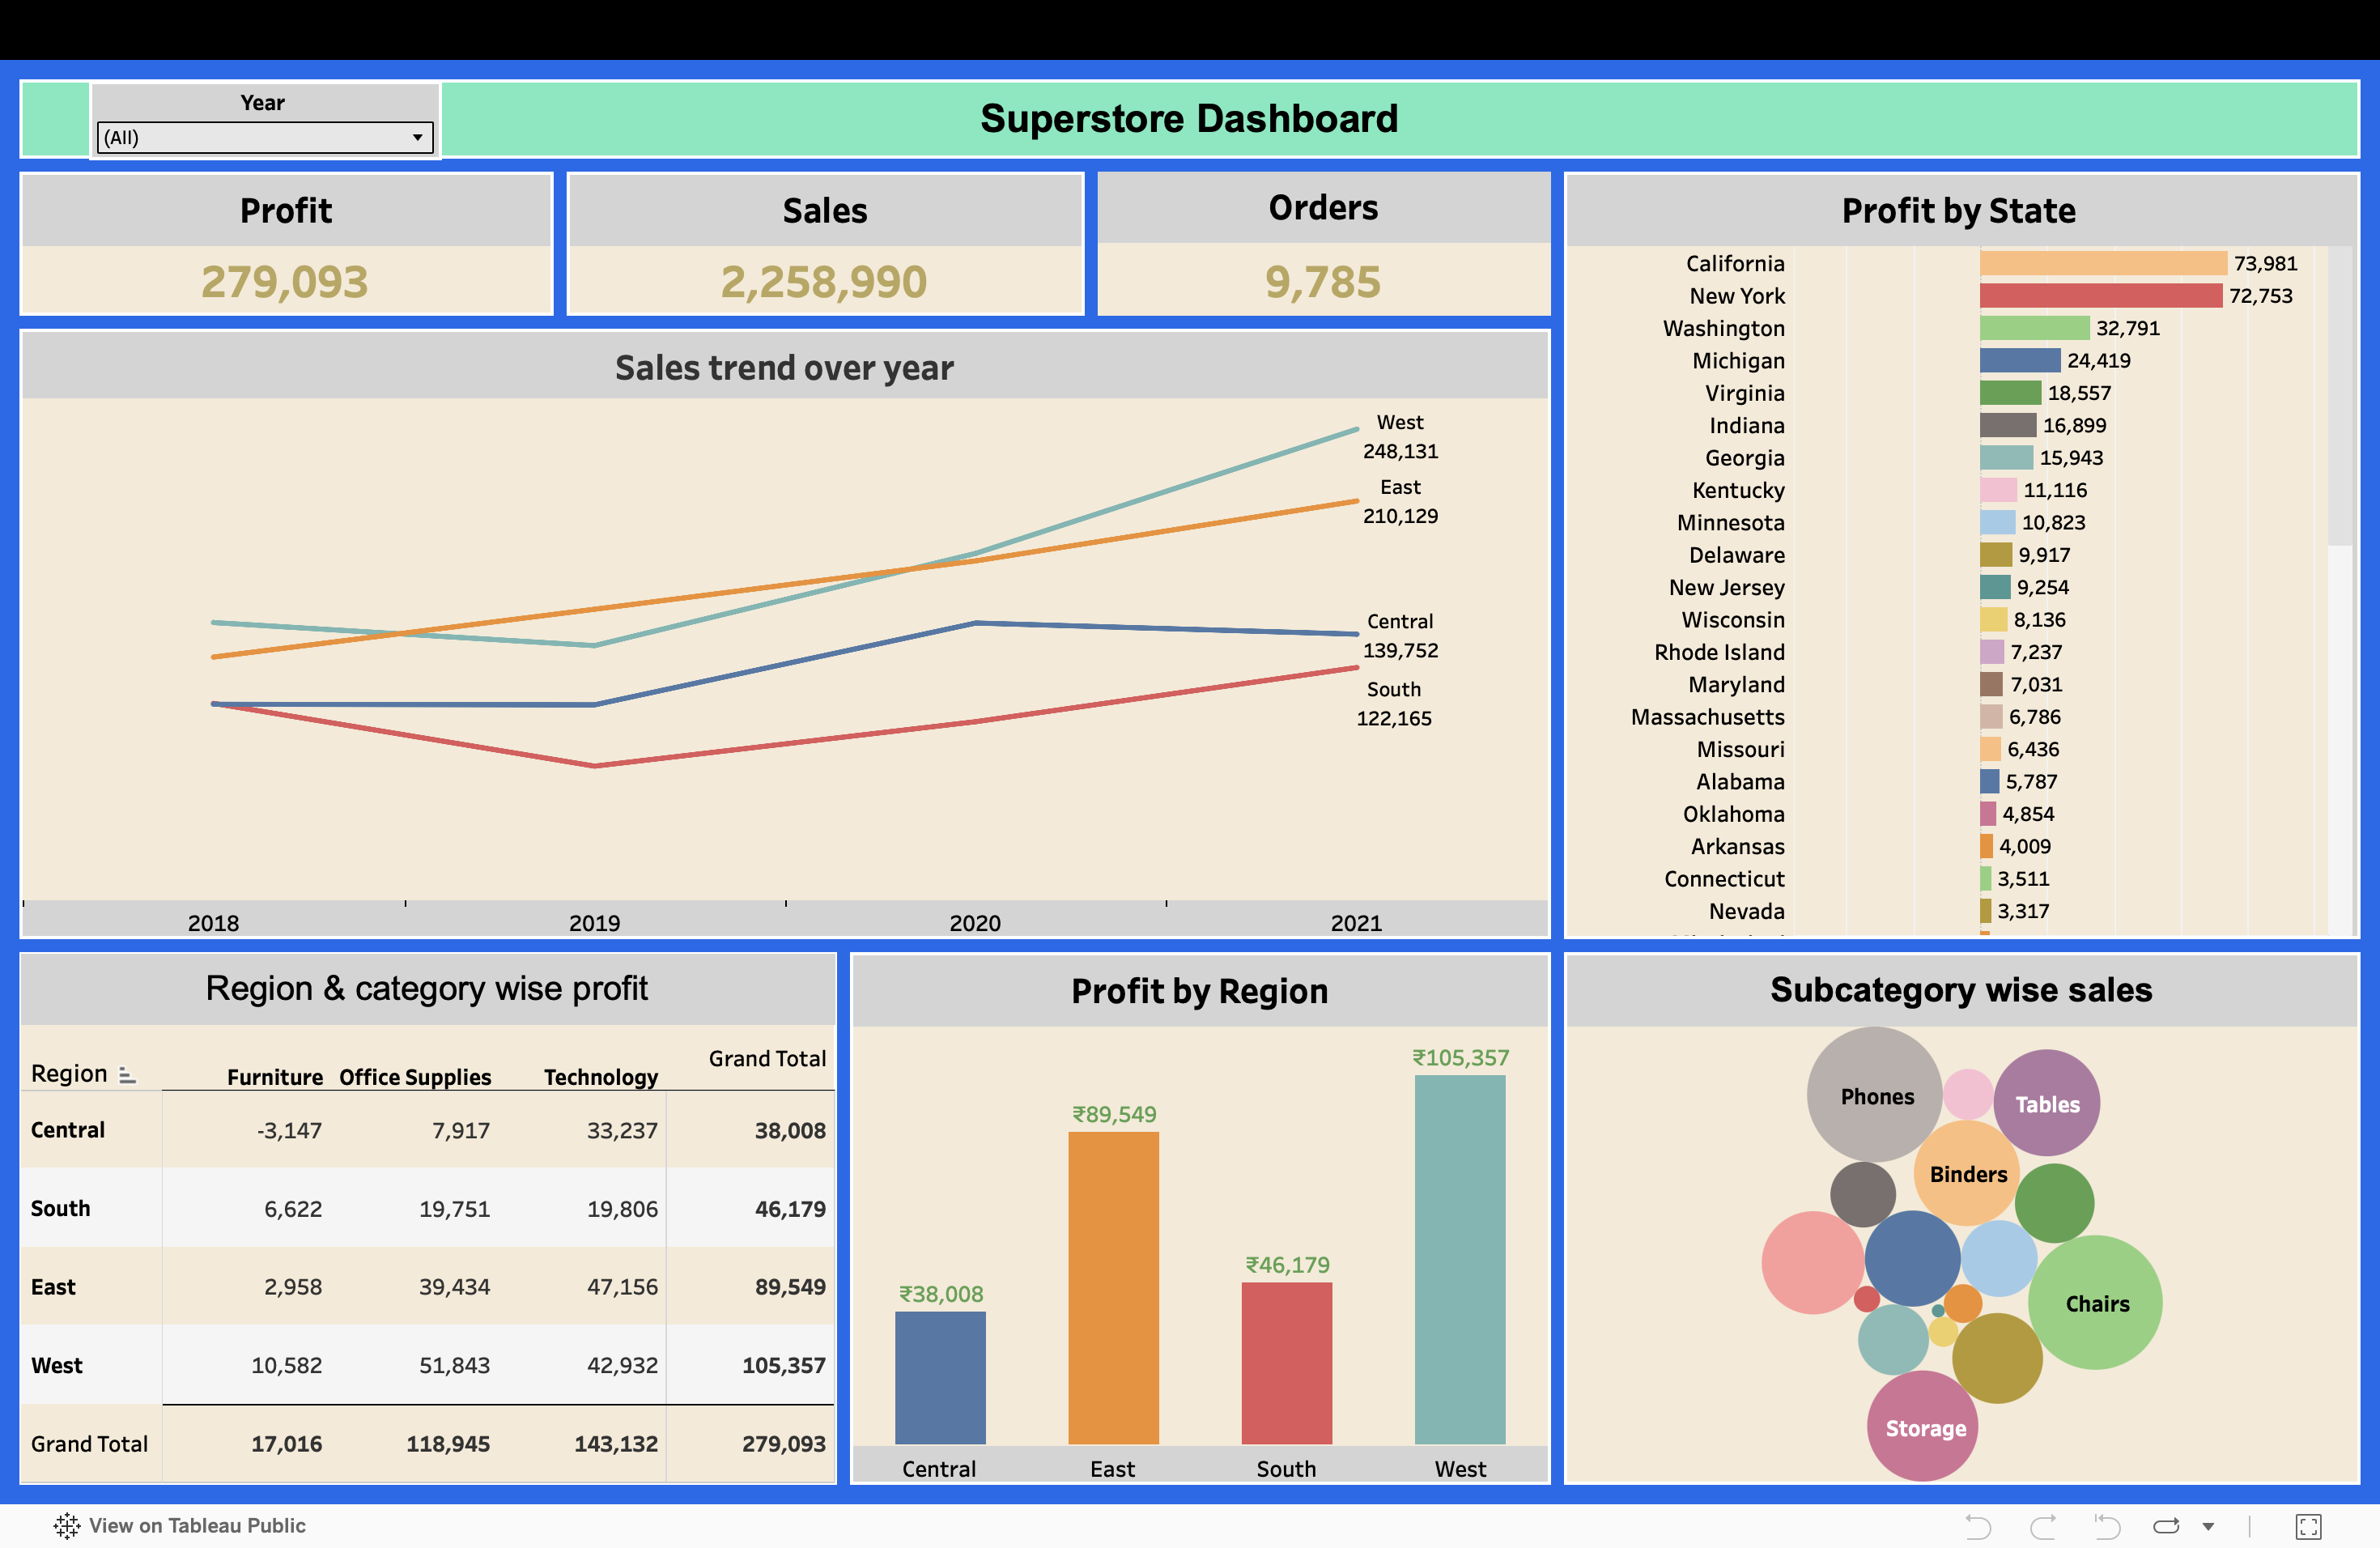

The page's visual inventory and layout, read from the dashboard file:
{"tool":"tableau","page":{"name":"Final Dashboard","canvas":[1000,1000],"units":"permille","ordinal":0},"visuals":[{"type":"title","box":[6.4,11.8,987.3,84.1]},{"type":"filter","title":"Orders","param":"[federated.14fcacr1fjue0e1g7ow790elgtki].[yr:Order Date:ok]","box":[37.3,14.8,148.5,54.6]},{"type":"worksheet","title":"Profit","mark":"Automatic","box":[6.4,95.9,229.7,105.9]},{"type":"worksheet","title":"Sales","mark":"Automatic","box":[236,95.9,222.4,105.9]},{"type":"worksheet","title":"Orders","mark":"Automatic","box":[458.4,95.9,195.7,105.9]},{"type":"worksheet","title":"Profit by State","mark":"Automatic","rows":["State"],"cols":["Profit"],"box":[654.1,95.9,339.5,524.9]},{"type":"worksheet","title":"sales trend over year","mark":"Automatic","rows":["Sales"],"cols":["Order Date"],"box":[6.4,201.7,647.8,419]},{"type":"worksheet","title":"Region & categories wise Profit","mark":"Automatic","rows":["Region"],"cols":["Category"],"box":[6.4,620.7,348,367.5]},{"type":"worksheet","title":"Profit by Region","mark":"Automatic","rows":["Profit"],"cols":["Region"],"box":[354.4,620.7,299.7,367.5]},{"type":"worksheet","title":"Subcategory wise sales","mark":"Circle","box":[654.1,620.7,339.5,367.5]}]}

Visuals, with their boxes on the dashboard's canvas, which has no fixed pixel size, in thousandths of its width and height (x1, y1, x2, y2). These are canvas units, not pixel positions in the 2380x1548 screenshot, which may show the page scaled, cropped or inside an application window:
title: {"left": 6, "top": 12, "right": 994, "bottom": 96}
"Orders" filter: {"left": 37, "top": 15, "right": 186, "bottom": 69}
"Profit" worksheet: {"left": 6, "top": 96, "right": 236, "bottom": 202}
"Sales" worksheet: {"left": 236, "top": 96, "right": 458, "bottom": 202}
"Orders" worksheet: {"left": 458, "top": 96, "right": 654, "bottom": 202}
"Profit by State" worksheet: {"left": 654, "top": 96, "right": 994, "bottom": 621}
"sales trend over year" worksheet: {"left": 6, "top": 202, "right": 654, "bottom": 621}
"Region & categories wise Profit" worksheet: {"left": 6, "top": 621, "right": 354, "bottom": 988}
"Profit by Region" worksheet: {"left": 354, "top": 621, "right": 654, "bottom": 988}
"Subcategory wise sales" worksheet (Circle marks): {"left": 654, "top": 621, "right": 994, "bottom": 988}
